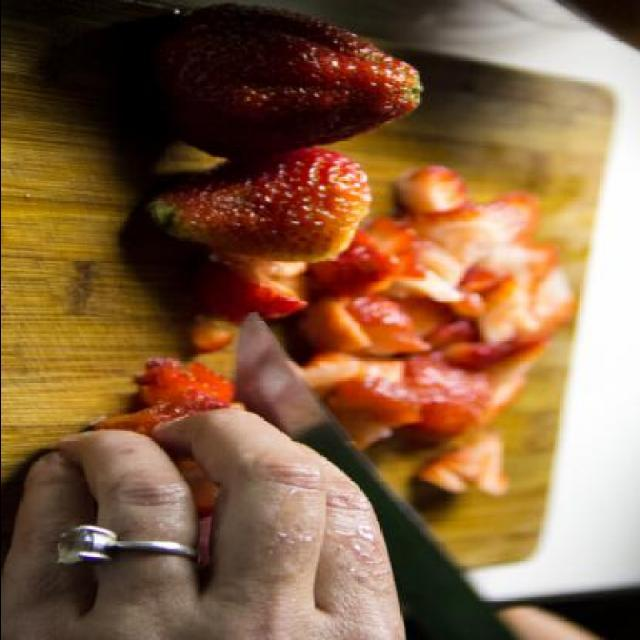Strawberry: (289, 156, 589, 500), (121, 1, 428, 164), (160, 139, 382, 261), (90, 358, 239, 520), (194, 260, 308, 328), (188, 320, 234, 356)
